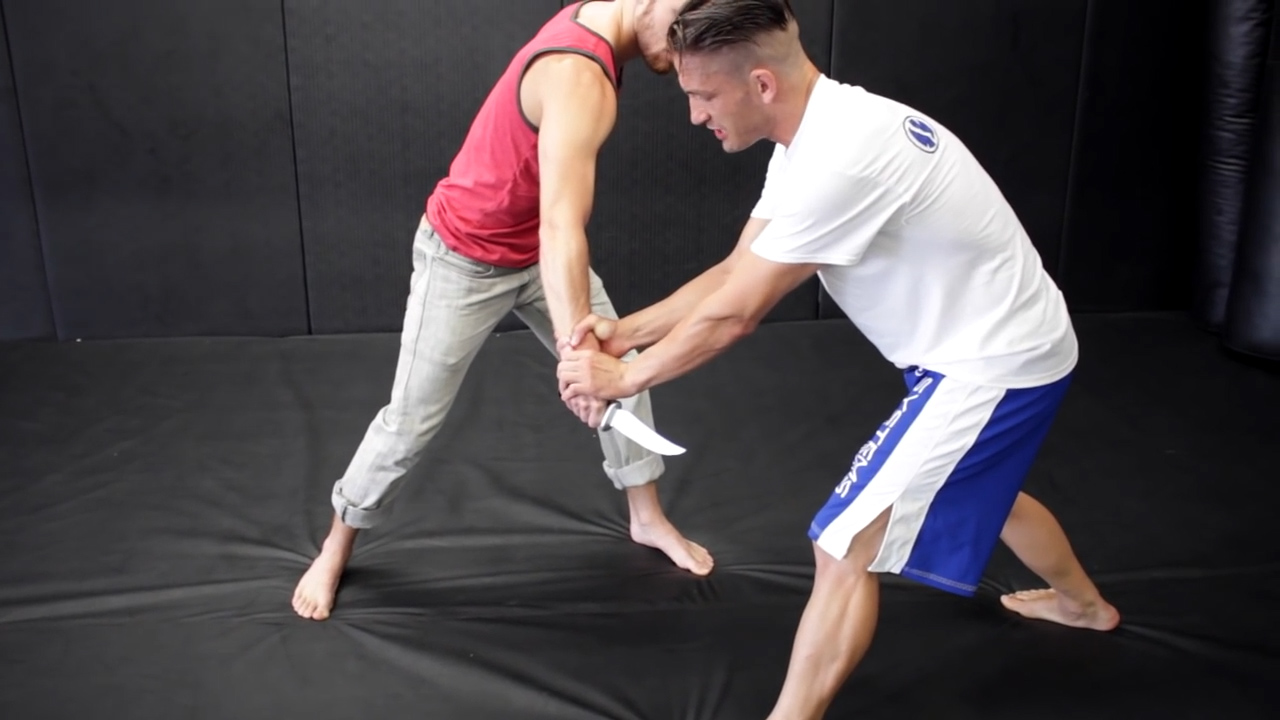knife: (563, 395, 696, 461)
